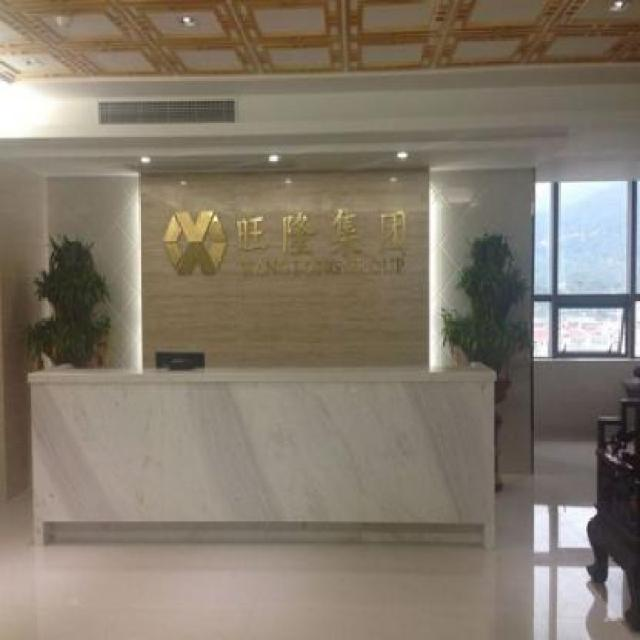frontdesk: (17, 352, 505, 562)
